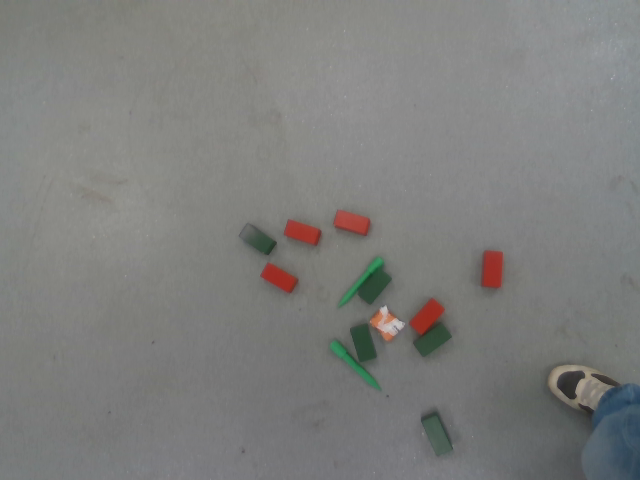Probe: (328, 338, 384, 393), (335, 255, 387, 311)
